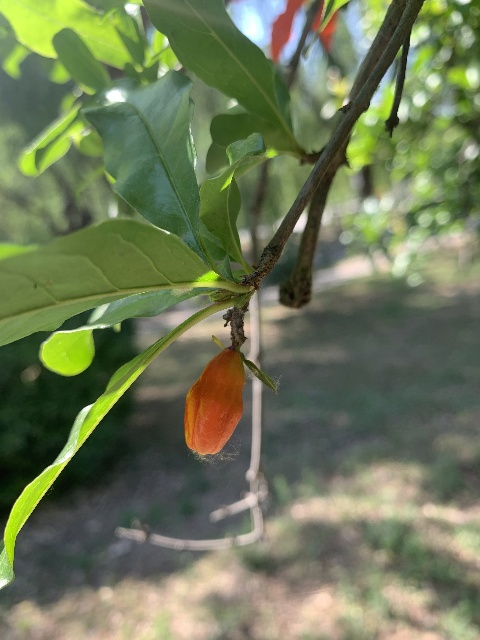bud: (183, 348, 245, 456)
